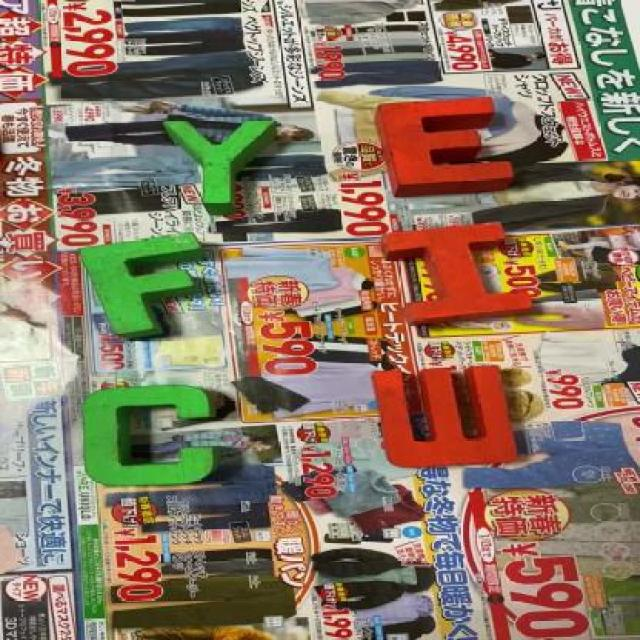C: (83, 386, 223, 486)
E: (379, 99, 503, 190)
F: (86, 231, 202, 335)
I: (388, 228, 520, 323)
W: (373, 368, 525, 463)
Y: (157, 122, 278, 209)
